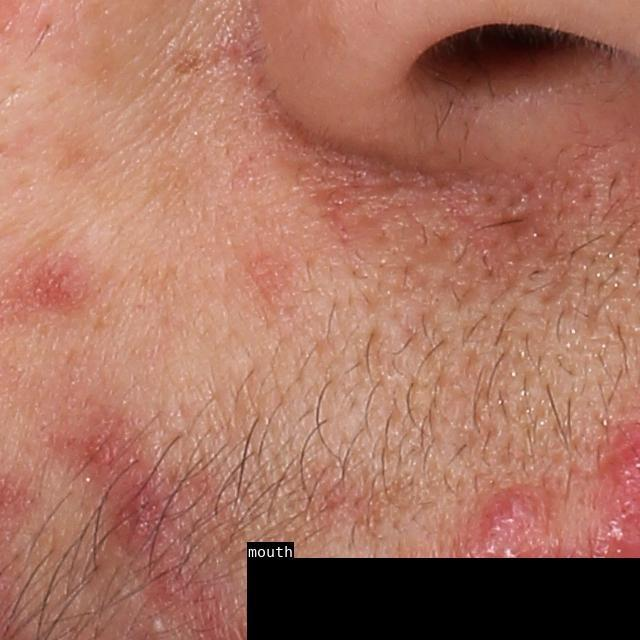comedo: (139, 612, 169, 640)
papule: (478, 473, 549, 546), (112, 474, 168, 548), (30, 265, 93, 321), (69, 419, 126, 473)
